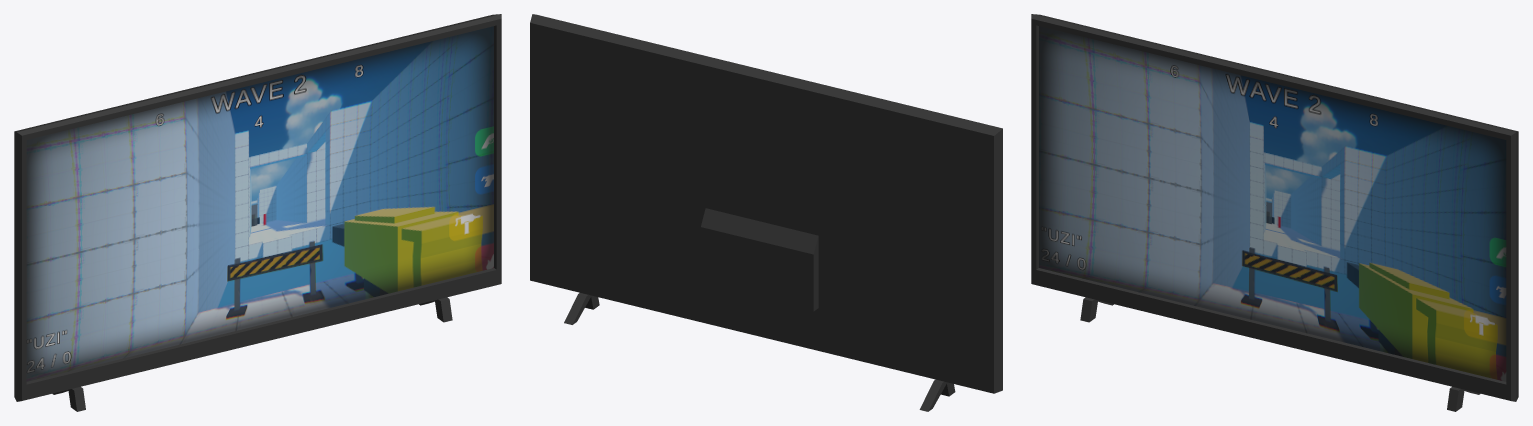
3 renders of one model, left to right at view 1: azimuth 30°, elevation 25°; view 2: azimuth 150°, elevation 25°; view 3: azimuth 330°, elevation 25°, orthographic. The views are drawn at different scales.
Visible parts, largest first — view 1: TV_1; view 2: TV_1; view 3: TV_1.
Part boxes in pixels (x1,y1,x2,y2): TV_1: (14,14,501,411); TV_1: (530,14,1002,411); TV_1: (1031,14,1518,411).
Size of the model in its own units: 1.32 by 0.7531 by 0.1324.
